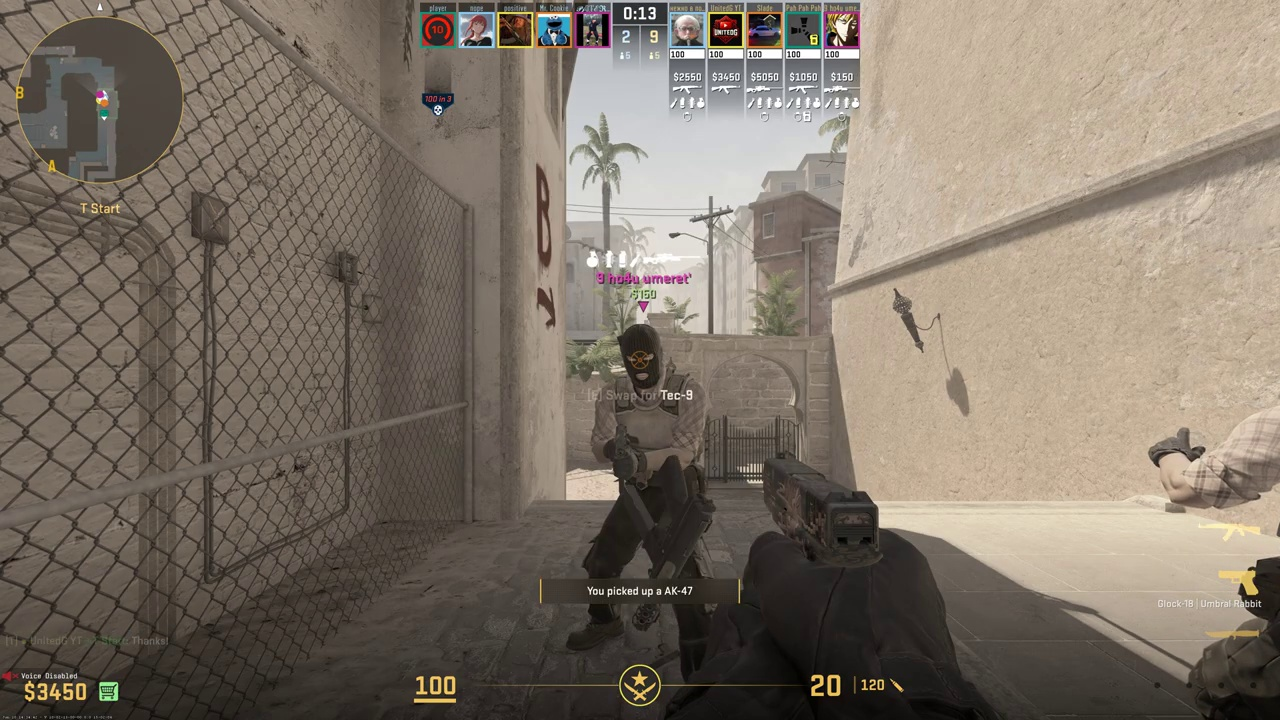Terrorist: (589, 323, 711, 657)
